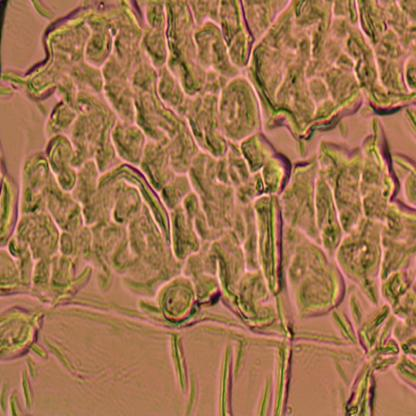Stage I: (35, 0, 416, 359)
